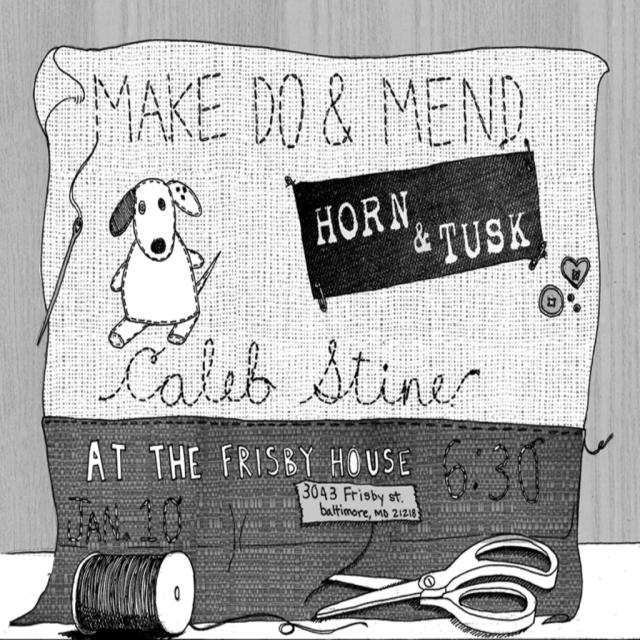scissors: (310, 533, 558, 636)
